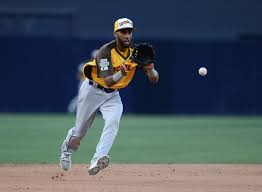baseball: (197, 65, 209, 77)
baseball player: (58, 16, 162, 176)
